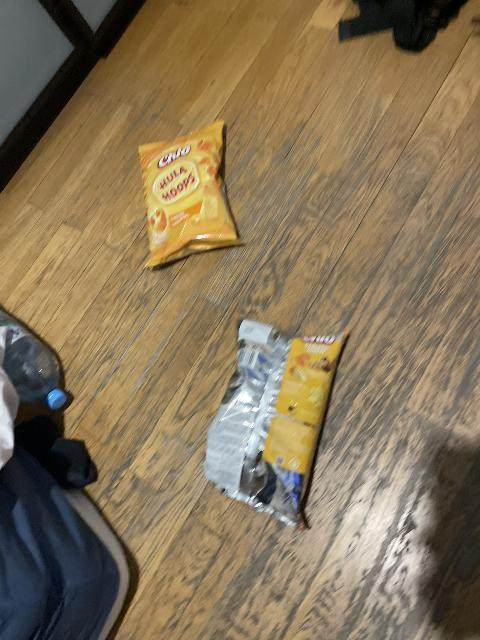Chio Cascaval 125g: (203, 317, 345, 532)
Chio Hula Hoops Cheese 70g: (138, 121, 245, 268)
